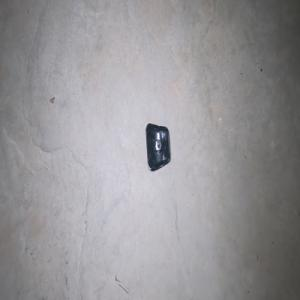LuggagePart: (145, 122, 170, 171)
